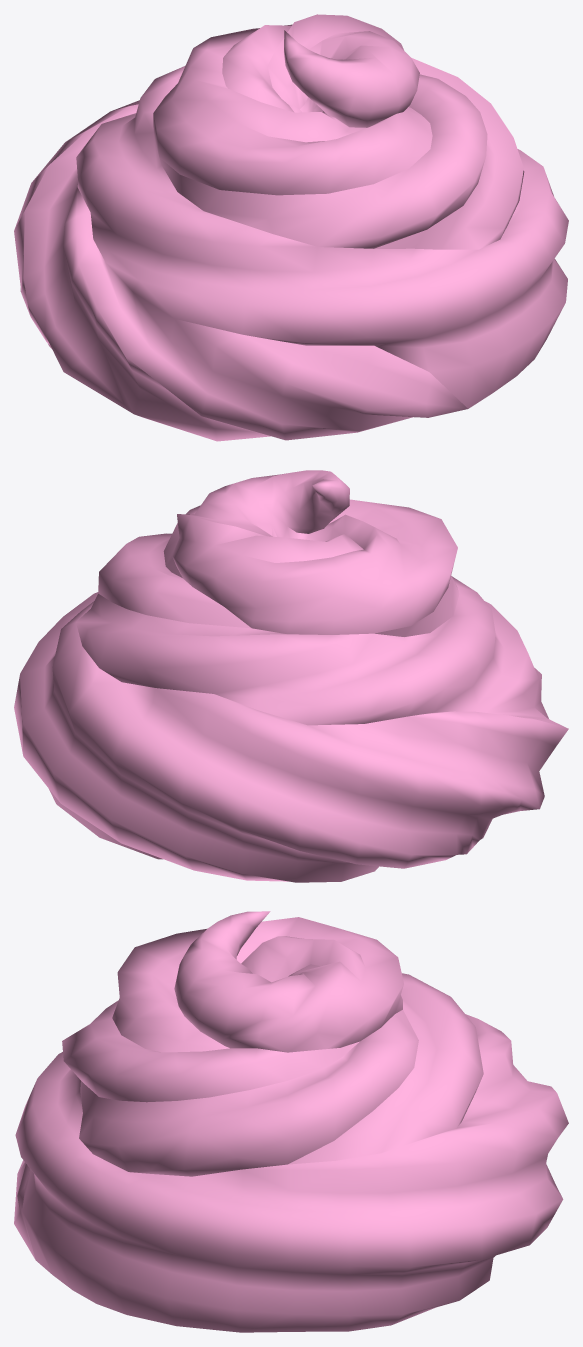
Rendered from DecorMachine_Frosting_MedPoly.FBX.
The picture shows the model from 3 angles, top to bottom: view 1: azimuth 30°, elevation 25°; view 2: azimuth 150°, elevation 25°; view 3: azimuth 270°, elevation 25°; orthographic projection. The views are drawn at different scales.
Visible parts, largest first — view 1: DecorMachine_Frosting_MedPoly; view 2: DecorMachine_Frosting_MedPoly; view 3: DecorMachine_Frosting_MedPoly.
Part boxes in pixels (x1,y1,x2,y2): DecorMachine_Frosting_MedPoly: (14, 14, 568, 441); DecorMachine_Frosting_MedPoly: (14, 470, 568, 882); DecorMachine_Frosting_MedPoly: (14, 911, 568, 1332).
Bounding box in the file's own units: 1665 × 1083 × 1623.
